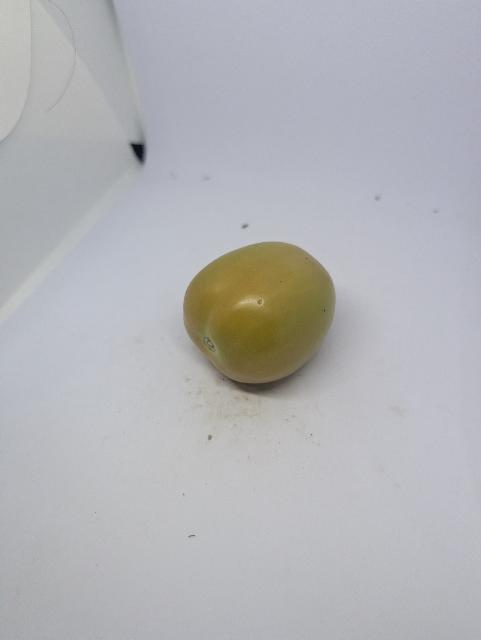breaker: (184, 242, 336, 383)
